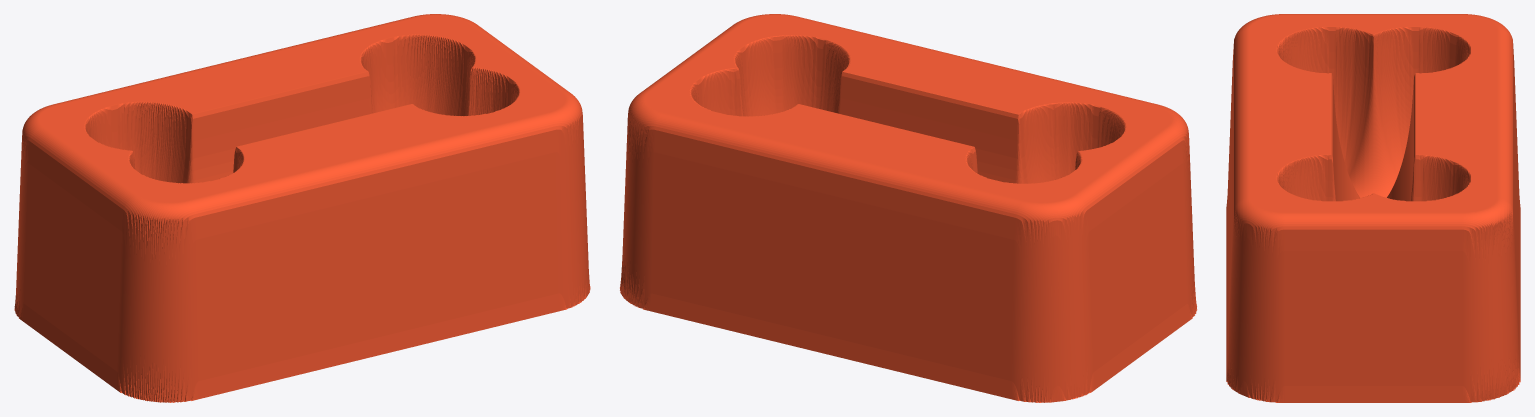
File: mold.glb
3 views of the same model, side by side, from view 1: azimuth 30°, elevation 25°; view 2: azimuth 150°, elevation 25°; view 3: azimuth 270°, elevation 25° (orthographic). The views are drawn at different scales.
Visible parts, largest first — view 1: geometry_0; view 2: geometry_0; view 3: geometry_0.
Boxes of the visible parts, <box> form: geometry_0: <box>14,14,590,402</box>; geometry_0: <box>620,14,1197,402</box>; geometry_0: <box>1226,14,1520,402</box>.
Size of the model in its own units: 0.0798 by 0.031 by 0.0458.
